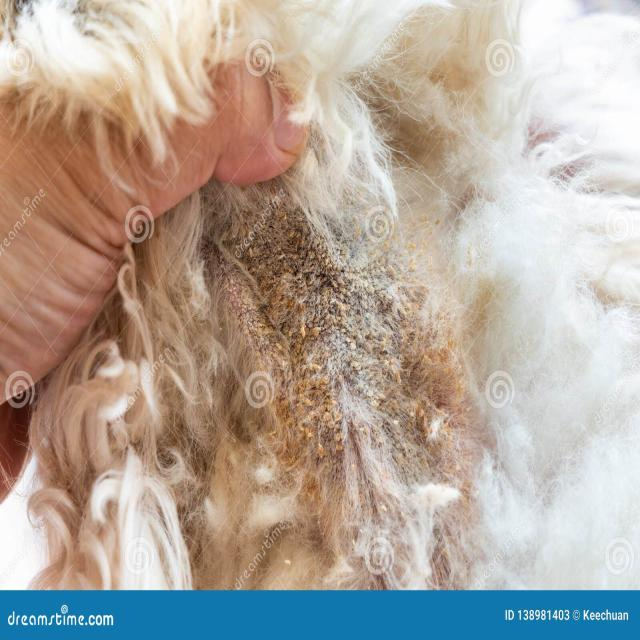fungal infection: (228, 202, 467, 467)
